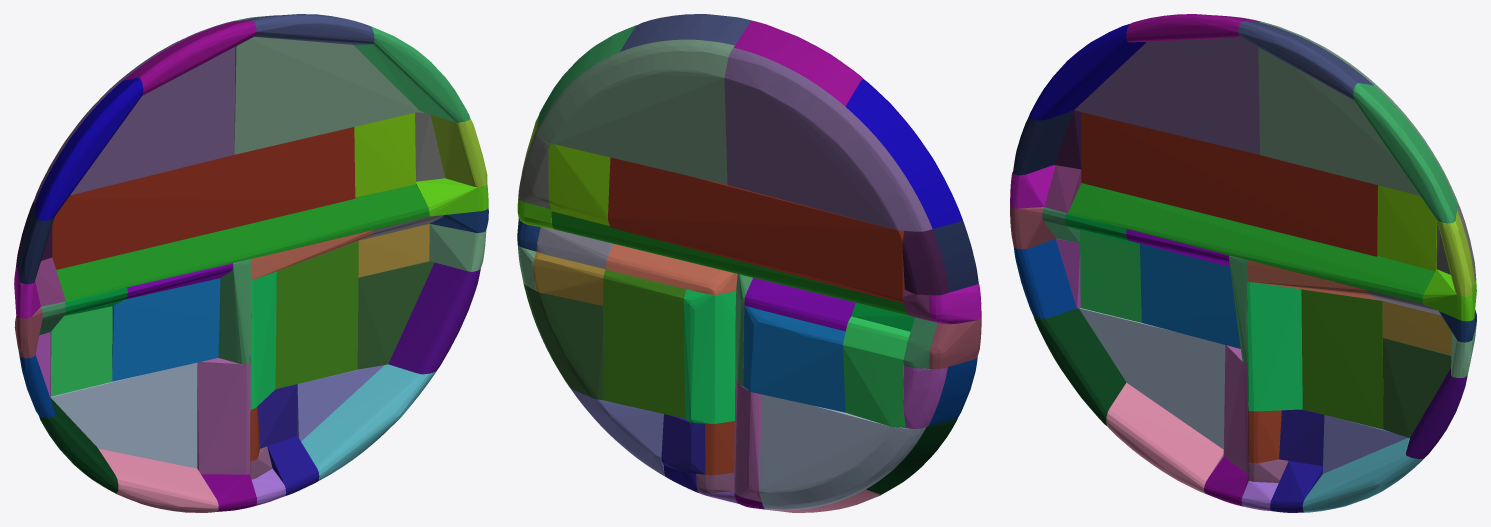
File: coacd_collision.obj
3 renders of one model, left to right at view 1: azimuth 30°, elevation 25°; view 2: azimuth 150°, elevation 25°; view 3: azimuth 330°, elevation 25°, orthographic.
Parts seen in each view (by area): view 1: geometry_15, geometry_0, geometry_8, geometry_1, geometry_30, geometry_6, geometry_29, geometry_2, geometry_7, geometry_27, geometry_19, geometry_5 (+31 smaller); view 2: geometry_1, geometry_15, geometry_0, geometry_6, geometry_30, geometry_29, geometry_23, geometry_36, geometry_19, geometry_5, geometry_8, geometry_4 (+28 smaller); view 3: geometry_15, geometry_1, geometry_8, geometry_0, geometry_30, geometry_6, geometry_29, geometry_23, geometry_24, geometry_25, geometry_10, geometry_19 (+33 smaller).
Boxes of the visible parts, <box> form: geometry_15: <box>52,127,355,269</box>; geometry_0: <box>234,15,420,154</box>; geometry_8: <box>56,184,429,301</box>; geometry_1: <box>34,21,234,203</box>; geometry_30: <box>275,241,358,388</box>; geometry_6: <box>50,362,197,468</box>; geometry_29: <box>112,278,220,381</box>; geometry_2: <box>301,364,436,481</box>; geometry_7: <box>197,358,250,474</box>; geometry_27: <box>388,262,480,374</box>; geometry_19: <box>357,261,434,369</box>; geometry_5: <box>34,78,143,220</box>; geometry_1: <box>724,47,932,231</box>; geometry_15: <box>608,157,904,302</box>; geometry_0: <box>536,39,734,184</box>; geometry_6: <box>759,394,926,510</box>; geometry_30: <box>602,269,685,418</box>; geometry_29: <box>743,305,845,412</box>; geometry_23: <box>683,289,736,423</box>; geometry_36: <box>843,316,910,427</box>; geometry_19: <box>523,284,602,400</box>; geometry_5: <box>845,79,962,228</box>; geometry_8: <box>551,211,908,315</box>; geometry_4: <box>548,142,610,225</box>; geometry_15: <box>1081,112,1377,256</box>; geometry_1: <box>1074,15,1260,154</box>; geometry_8: <box>1068,183,1435,303</box>; geometry_0: <box>1258,21,1457,204</box>; geometry_30: <box>1301,289,1383,429</box>; geometry_6: <box>1079,308,1225,449</box>; geometry_29: <box>1140,243,1240,348</box>; geometry_23: <box>1247,281,1302,411</box>; geometry_24: <box>1106,383,1223,493</box>; geometry_25: <box>1033,308,1126,425</box>; geometry_10: <box>1353,83,1457,223</box>; geometry_19: <box>1383,338,1451,437</box>.
Bounding box in the file's own units: 232 × 230 × 29.18.
